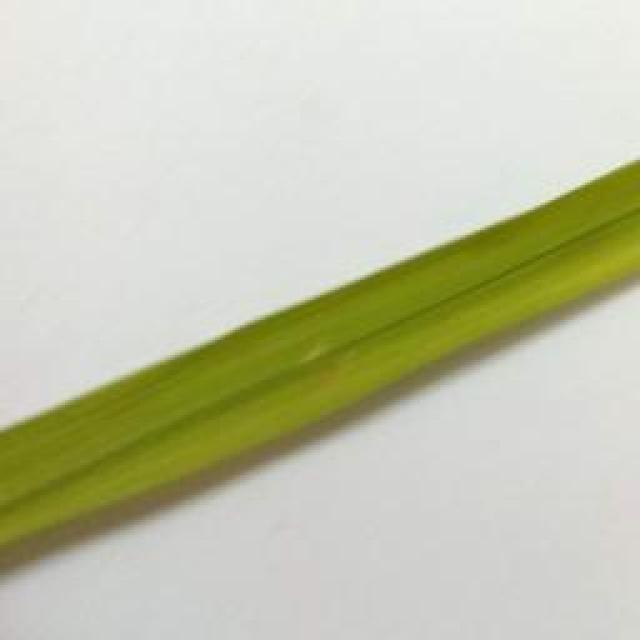Healthy-Plant: (0, 157, 640, 558)
